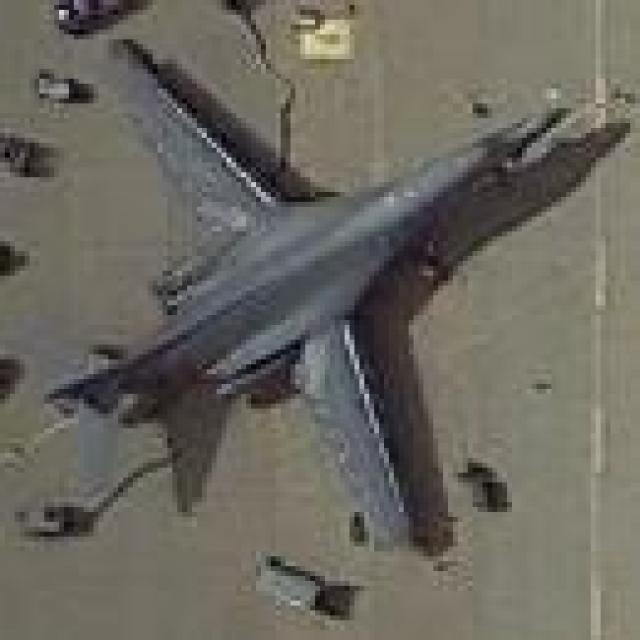B-1_TopDown: (30, 34, 635, 562)
